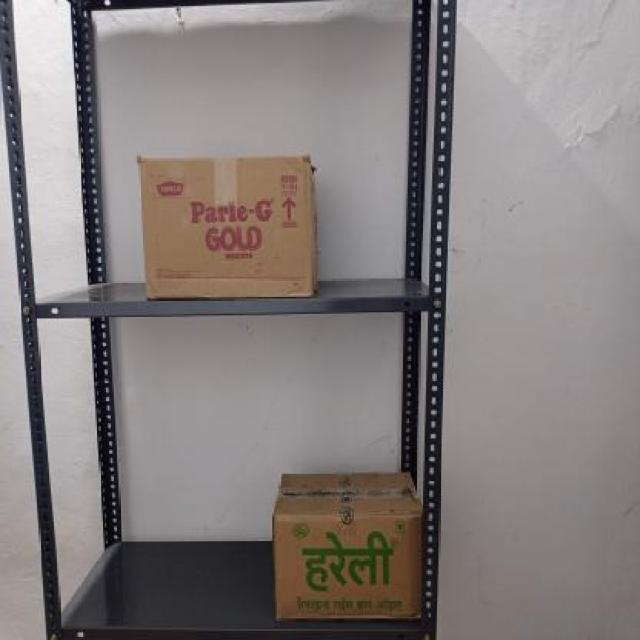box: (146, 152, 309, 305), (274, 518, 426, 616)
